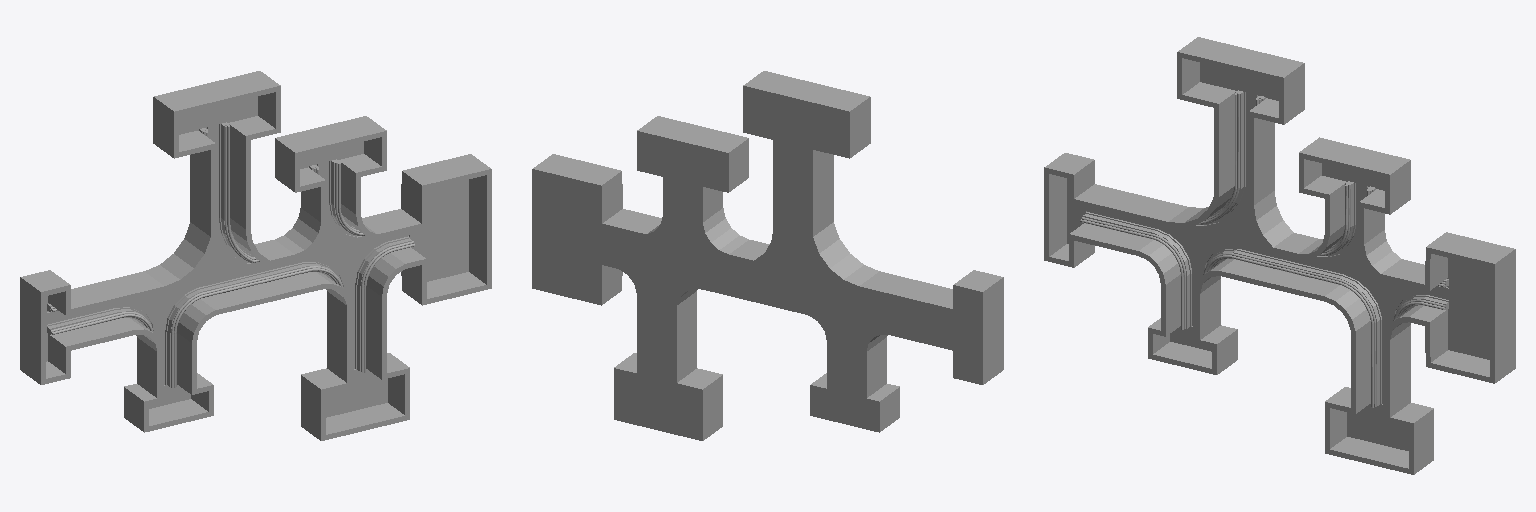
The robot description file, URDF, robot "파트1.SLDPRT":
<?xml version="1.0" encoding="utf-8"?>
<!-- This URDF was automatically created by SolidWorks to URDF Exporter! Originally created by [author] ([email redacted]) 
     Commit Version: 1.5.1-0-g916b5db  Build Version: 1.5.7152.31018
     For more information, please see http://wiki.ros.org/sw_urdf_exporter -->
<robot
  name="파트1.SLDPRT">
  <link
    name="파트1.SLDPRT">
    <inertial>
      <origin
        xyz="23.657 -0.68269 4.8755"
        rpy="0 0 0" />
      <mass
        value="1733100" />
      <inertia
        ixx="125790000"
        ixy="-625590.000000001"
        ixz="22591000"
        iyy="366050000"
        iyz="-36990.0000000075"
        izz="244340000" />
    </inertial>
    <visual>
      <origin
        xyz="0 0 0"
        rpy="1.5707963267949 0 0" />
      <geometry>
        <mesh
          filename="package://파트1.SLDPRT/meshes/파트1.SLDPRT.STL" />
      </geometry>
      <material
        name="">
        <color
          rgba="0.69804 0.69804 0.69804 1" />
        <texture
          filename="package://파트1.SLDPRT/textures/" />
      </material>
    </visual>
    <collision>
      <origin
        xyz="0 0 0"
        rpy="1.5707963267949 0 0" />
      <geometry>
        <mesh
          filename="package://파트1.SLDPRT/meshes/파트1.SLDPRT.STL" />
      </geometry>
    </collision>
  </link>
</robot>

--- What the picture shows (computed from the rendered views, not written in the file) ---
The picture shows the robot from 3 angles, left to right: view 1: azimuth 30°, elevation 25°; view 2: azimuth 150°, elevation 25°; view 3: azimuth 330°, elevation 25°; orthographic projection.
Robot: 파트1.SLDPRT — 1 links, 0 joints (none); root link 파트1.SLDPRT; default pose: every joint at zero.
Links seen in each view (by area): view 1: 파트1.SLDPRT; view 2: 파트1.SLDPRT; view 3: 파트1.SLDPRT.
Link boxes in pixels (x1=…): 파트1.SLDPRT: x1=20, y1=71, x2=491, y2=440; 파트1.SLDPRT: x1=532, y1=71, x2=1003, y2=440; 파트1.SLDPRT: x1=1044, y1=37, x2=1515, y2=474.
Bounding box of the posed robot: 45.5 × 3.6 × 35.29 m (x, y, z).
Meshes: 1 distinct files referenced, 1 mesh visuals loaded (1 binary STL).
